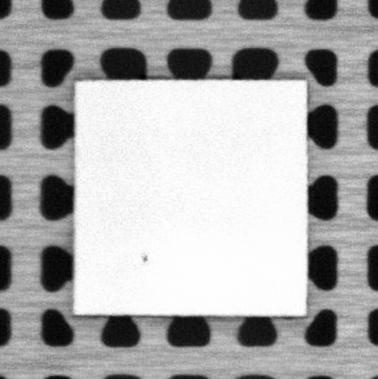DIE_INK: (140, 251, 150, 263)
